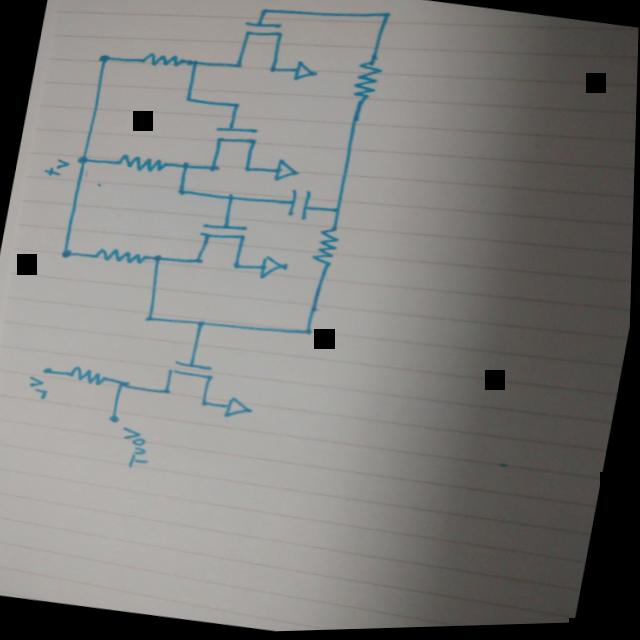capacitor: (284, 186, 316, 226)
ground: (270, 158, 305, 188), (258, 256, 291, 287), (224, 397, 257, 424), (291, 61, 320, 89)
junction: (59, 247, 77, 261), (116, 379, 133, 392), (151, 253, 167, 266), (75, 155, 90, 167), (304, 329, 318, 341), (195, 320, 209, 332), (96, 53, 109, 65), (144, 314, 157, 326), (179, 161, 191, 173), (182, 96, 196, 106), (225, 195, 238, 205), (176, 188, 188, 198), (332, 208, 343, 217), (232, 102, 241, 112), (258, 10, 270, 17), (189, 61, 199, 69), (380, 14, 391, 21)
resistor: (112, 150, 175, 181), (349, 59, 387, 108), (92, 244, 151, 272), (310, 227, 345, 272), (61, 362, 115, 391), (135, 50, 188, 75)
terminal: (107, 414, 124, 429), (42, 365, 57, 378)
text: (116, 425, 160, 471), (39, 153, 73, 182), (25, 376, 53, 403)
transistor: (189, 218, 252, 281), (158, 356, 220, 418), (229, 18, 288, 80), (205, 122, 263, 183)
